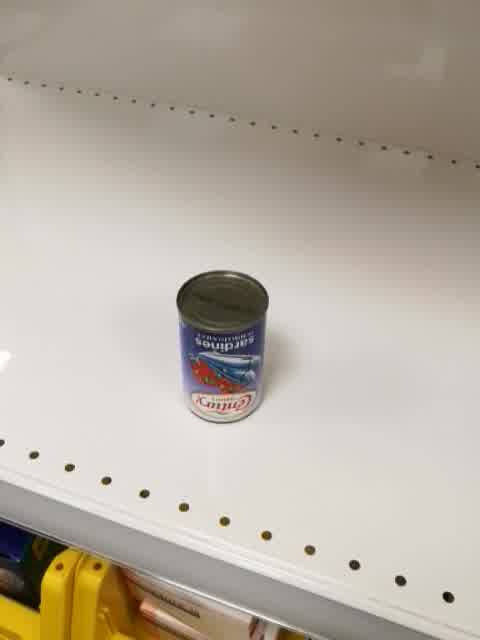sardine: (174, 269, 270, 427)
